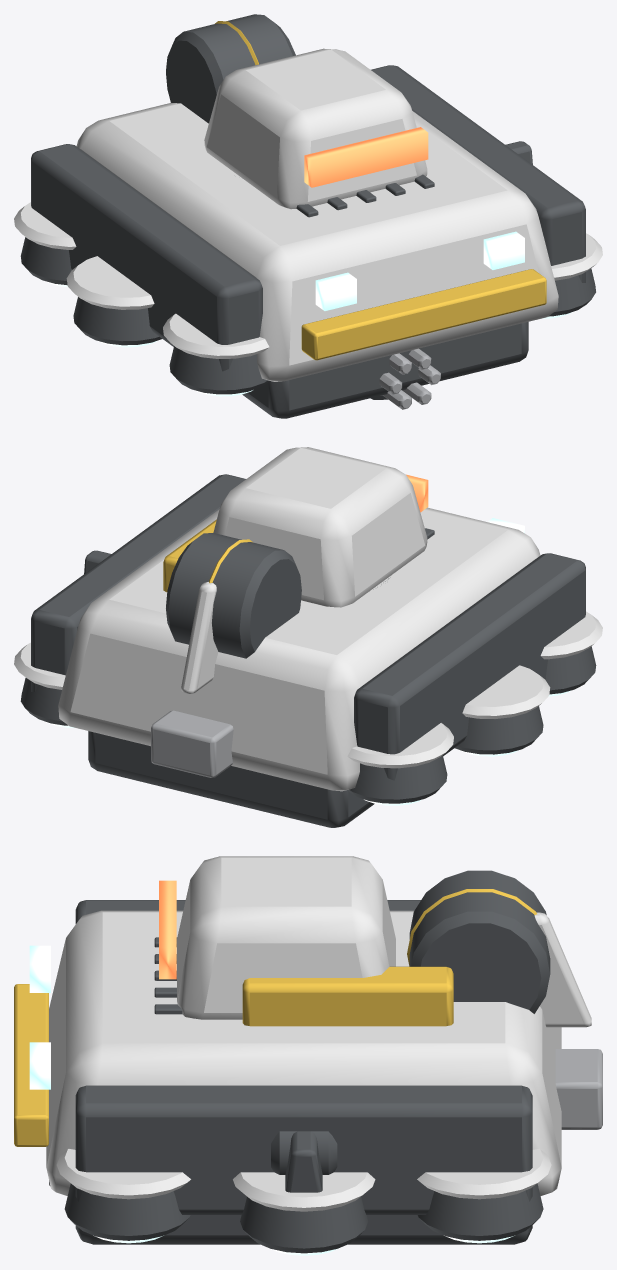
File: auto.glb
The picture shows the model from 3 angles, top to bottom: view 1: azimuth 30°, elevation 25°; view 2: azimuth 150°, elevation 25°; view 3: azimuth 270°, elevation 25°; orthographic projection. The views are drawn at different scales.
Parts seen in each view (by area): view 1: Hull, Turret, Barrel; view 2: Hull, Turret; view 3: Hull, Turret, LegLower, LegUpper.
Boxes of the visible parts, box(x1,y1,x2,y2) form: Hull: box(14, 14, 602, 418); Turret: box(204, 48, 428, 209); Barrel: box(370, 348, 440, 409); Hull: box(14, 474, 602, 827); Turret: box(163, 447, 428, 607); Hull: box(14, 870, 602, 1255); Turret: box(159, 856, 453, 1026); LegLower: box(285, 1131, 322, 1192); LegUpper: box(271, 1131, 337, 1174).
Bounding box in the file's own units: 0.724 × 0.395 × 0.67.
